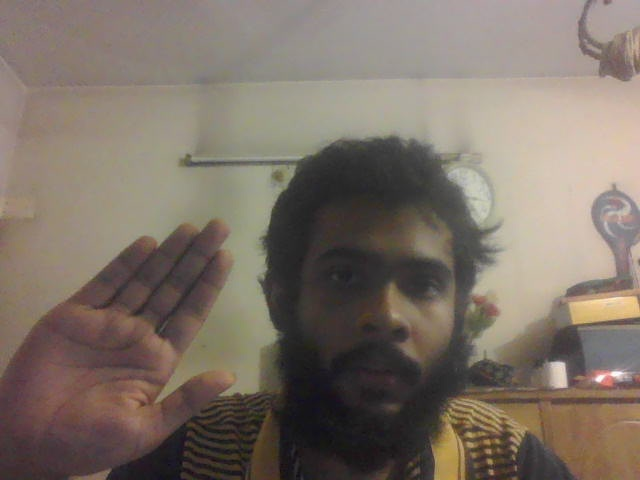Hello: (1, 217, 235, 479)
